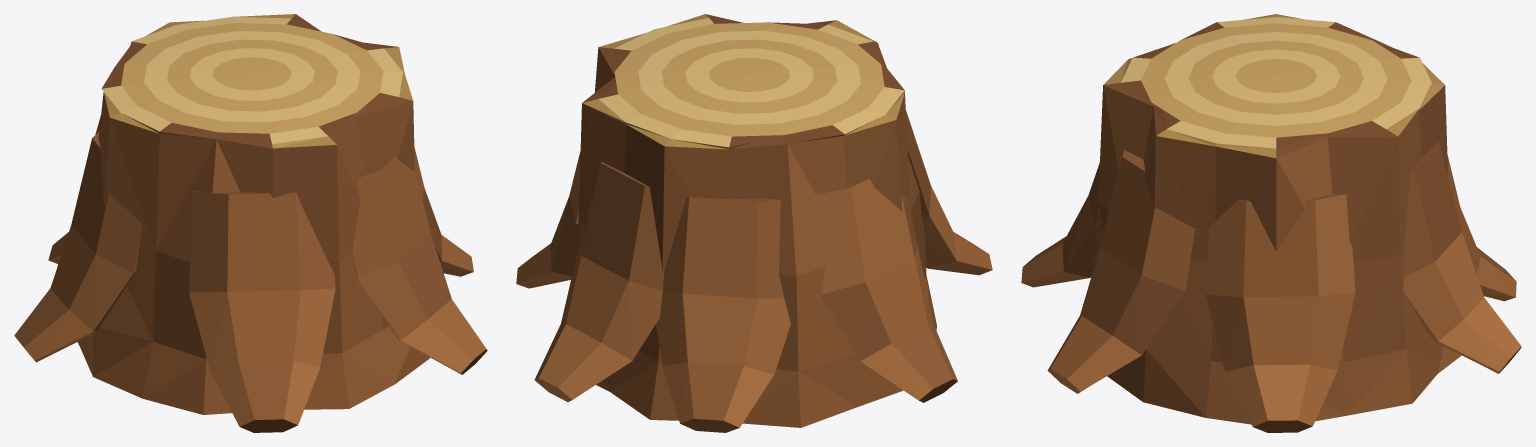
The model's file is FMS_Wood_Stump.fbx.
The picture shows the model from 3 angles, left to right: view 1: azimuth 30°, elevation 25°; view 2: azimuth 150°, elevation 25°; view 3: azimuth 270°, elevation 25°; orthographic projection. The views are drawn at different scales.
Visible parts, largest first — view 1: FMS_Wood_Stump; view 2: FMS_Wood_Stump; view 3: FMS_Wood_Stump.
Part boxes in pixels (left/top/right/bottom): FMS_Wood_Stump: left=14, top=14, right=487, bottom=432; FMS_Wood_Stump: left=516, top=14, right=992, bottom=432; FMS_Wood_Stump: left=1021, top=14, right=1521, bottom=432.
Bounding box in the file's own units: 0.8072 × 0.478 × 0.7991.
